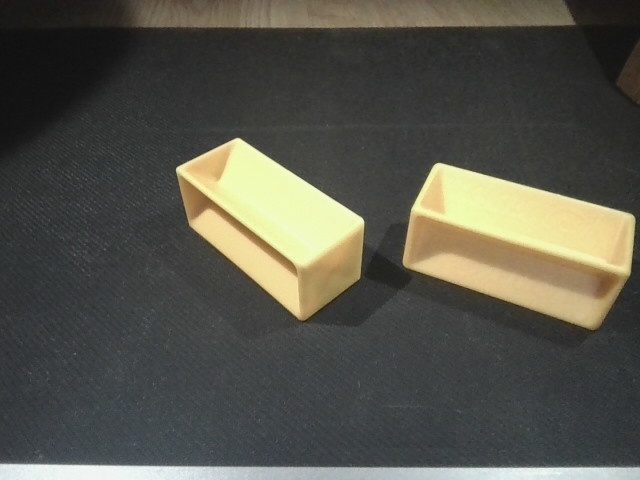YellowSample: (401, 158, 636, 335), (170, 134, 365, 325)
